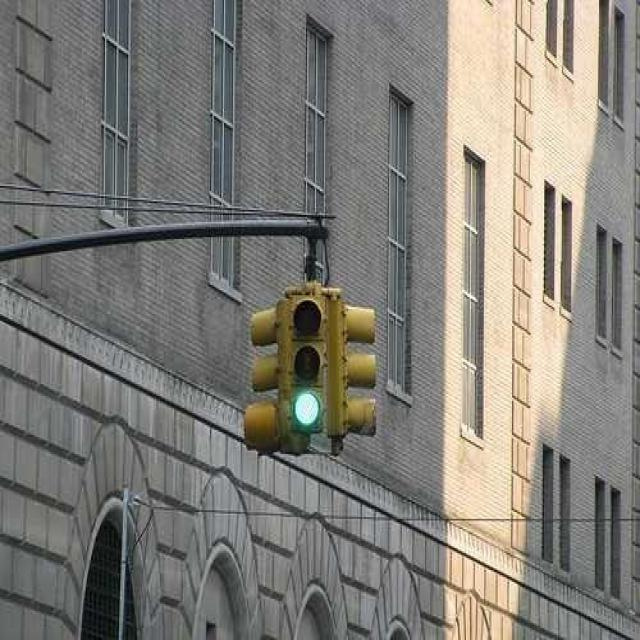Traffic Light -Green-: (282, 288, 333, 446)
